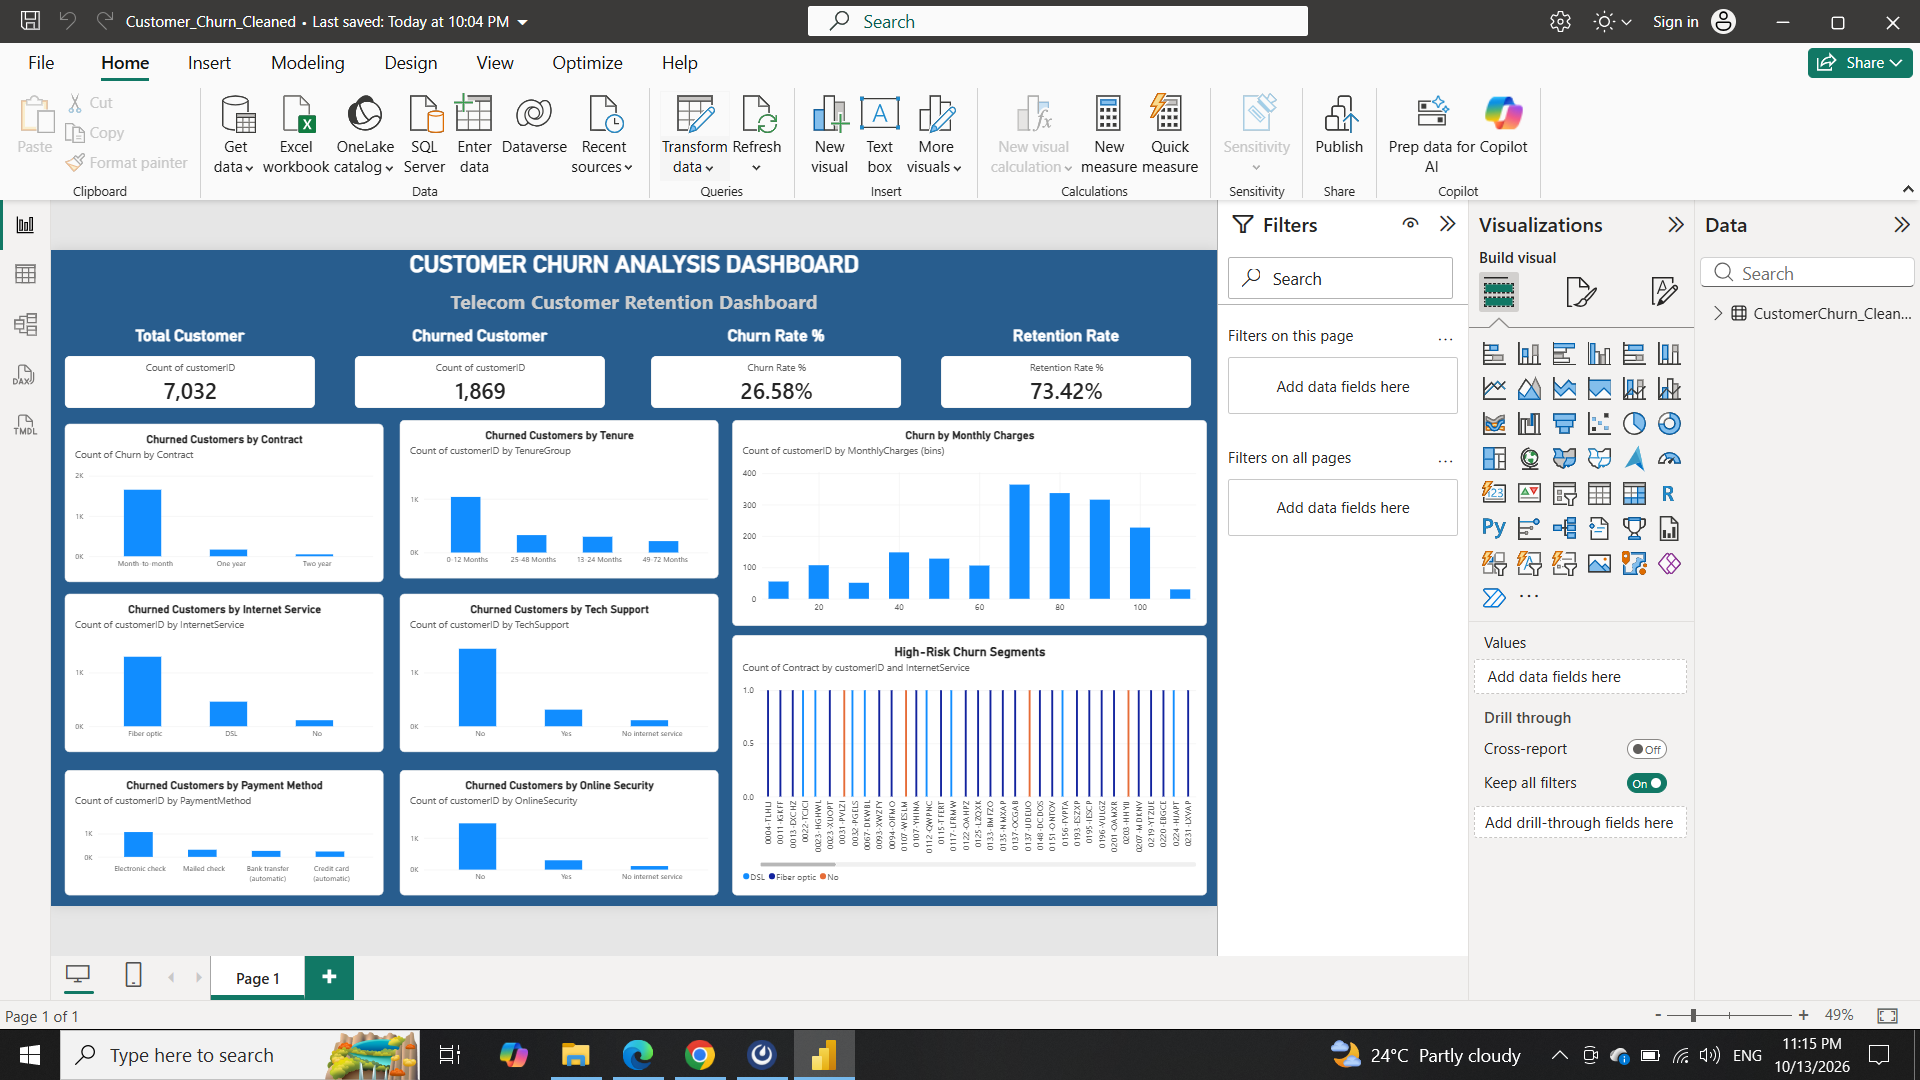

Layout of this report page (visuals, bound fields, positions):
{"tool":"powerbi","page":{"name":"Page 1","canvas":[1920,1080],"ordinal":0},"visuals":[{"type":"textbox","title":"CUSTOMER CHURN ANALYSIS DASHBOARD","box":[0,0,1920.8,125],"z":0},{"type":"cardVisual","title":"Total Customer","fields":{"Data":["CountNonNull(CustomerChurn_Cleaned.customerID)"]},"box":[22.9,125,412,135],"z":1},{"type":"cardVisual","title":"Churned Customer","fields":{"Data":["CountNonNull(CustomerChurn_Cleaned.customerID)"]},"box":[500,125,412,135],"z":2},{"type":"cardVisual","title":"Churn Rate %","fields":{"Data":["CustomerChurn_Cleaned.Churn Rate %"]},"box":[987.5,125,412,135],"z":3},{"type":"cardVisual","title":"Retention Rate","fields":{"Data":["CustomerChurn_Cleaned.Retention Rate %"]},"box":[1464.6,125,412,135],"z":4},{"type":"clusteredColumnChart","title":"Churned Customers by Contract","fields":{"Category":["CustomerChurn_Cleaned.Contract"],"Y":["CountNonNull(CustomerChurn_Cleaned.Churn)"]},"box":[22.9,285.4,525,260.4],"z":5},{"type":"clusteredColumnChart","title":"Churned Customers by Internet Service","fields":{"Category":["CustomerChurn_Cleaned.InternetService"],"Y":["CountNonNull(CustomerChurn_Cleaned.customerID)"]},"box":[22.9,566.7,525,260.4],"z":6},{"type":"clusteredColumnChart","title":"Churned Customers by Payment Method","fields":{"Category":["CustomerChurn_Cleaned.PaymentMethod"],"Y":["CountNonNull(CustomerChurn_Cleaned.customerID)"]},"box":[22.9,856.2,525,206.2],"z":7},{"type":"clusteredColumnChart","title":"Churned Customers by Tenure","fields":{"Category":["CustomerChurn_Cleaned.TenureGroup"],"Y":["CountNonNull(CustomerChurn_Cleaned.customerID)"]},"box":[575,279.2,525,260.4],"z":8},{"type":"clusteredColumnChart","title":"Churned Customers by Tech Support","fields":{"Category":["CustomerChurn_Cleaned.TechSupport"],"Y":["CountNonNull(CustomerChurn_Cleaned.customerID)"]},"box":[575,566.7,525,260.4],"z":9},{"type":"clusteredColumnChart","title":"Churned Customers by Online Security","fields":{"Category":["CustomerChurn_Cleaned.OnlineSecurity"],"Y":["CountNonNull(CustomerChurn_Cleaned.customerID)"]},"box":[575,856.2,525,206.2],"z":10},{"type":"clusteredColumnChart","title":"Churn by Monthly Charges","fields":{"Category":["CustomerChurn_Cleaned.MonthlyCharges (bins)"],"Y":["CountNonNull(CustomerChurn_Cleaned.customerID)"]},"box":[1120.8,279.2,781.2,339.6],"z":11},{"type":"clusteredColumnChart","title":"High-Risk Churn Segments","fields":{"Category":["CustomerChurn_Cleaned.customerID"],"Series":["CustomerChurn_Cleaned.InternetService"],"Y":["CountNonNull(CustomerChurn_Cleaned.Contract)"]},"box":[1120.8,633.3,781.2,429.2],"z":12}]}

Visuals, with their boxes on the page's 1920x1080 design canvas (x1, y1, x2, y2). These are canvas units, not pixel positions in the 1920x1080 screenshot, which may show the page scaled, cropped or inside an application window:
"CUSTOMER CHURN ANALYSIS DASHBOARD" textbox: 0, 0, 1921, 125
"Total Customer" cardVisual: 23, 125, 435, 260
"Churned Customer" cardVisual: 500, 125, 912, 260
"Churn Rate %" cardVisual: 988, 125, 1400, 260
"Retention Rate" cardVisual: 1465, 125, 1877, 260
"Churned Customers by Contract" clusteredColumnChart: 23, 285, 548, 546
"Churned Customers by Internet Service" clusteredColumnChart: 23, 567, 548, 827
"Churned Customers by Payment Method" clusteredColumnChart: 23, 856, 548, 1062
"Churned Customers by Tenure" clusteredColumnChart: 575, 279, 1100, 540
"Churned Customers by Tech Support" clusteredColumnChart: 575, 567, 1100, 827
"Churned Customers by Online Security" clusteredColumnChart: 575, 856, 1100, 1062
"Churn by Monthly Charges" clusteredColumnChart: 1121, 279, 1902, 619
"High-Risk Churn Segments" clusteredColumnChart: 1121, 633, 1902, 1062
